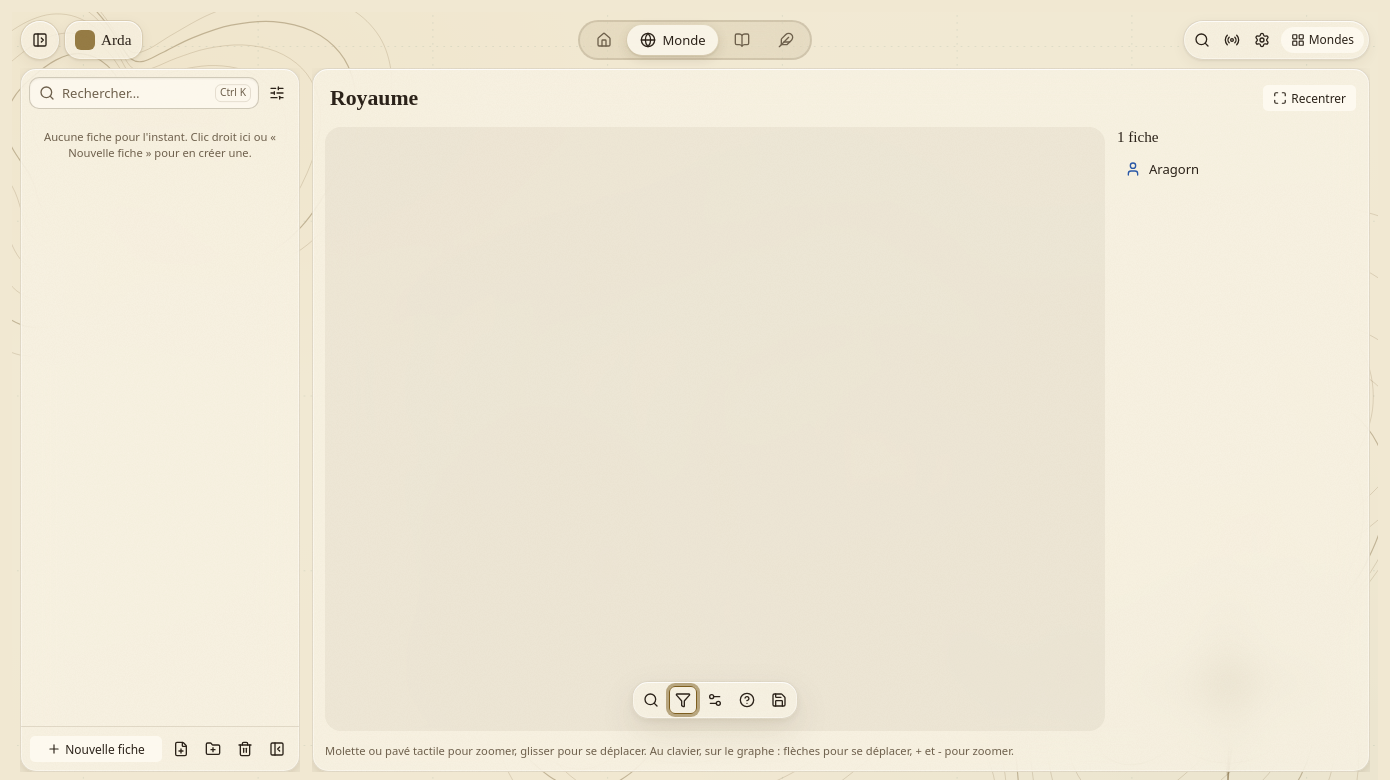
Test: the filters menu checks types; with no card left, it says so and can show everything again
The image size is (1390, 780).
Step 1. Press Enter in the button named "Filtrer par type", box [669,686,697,714]
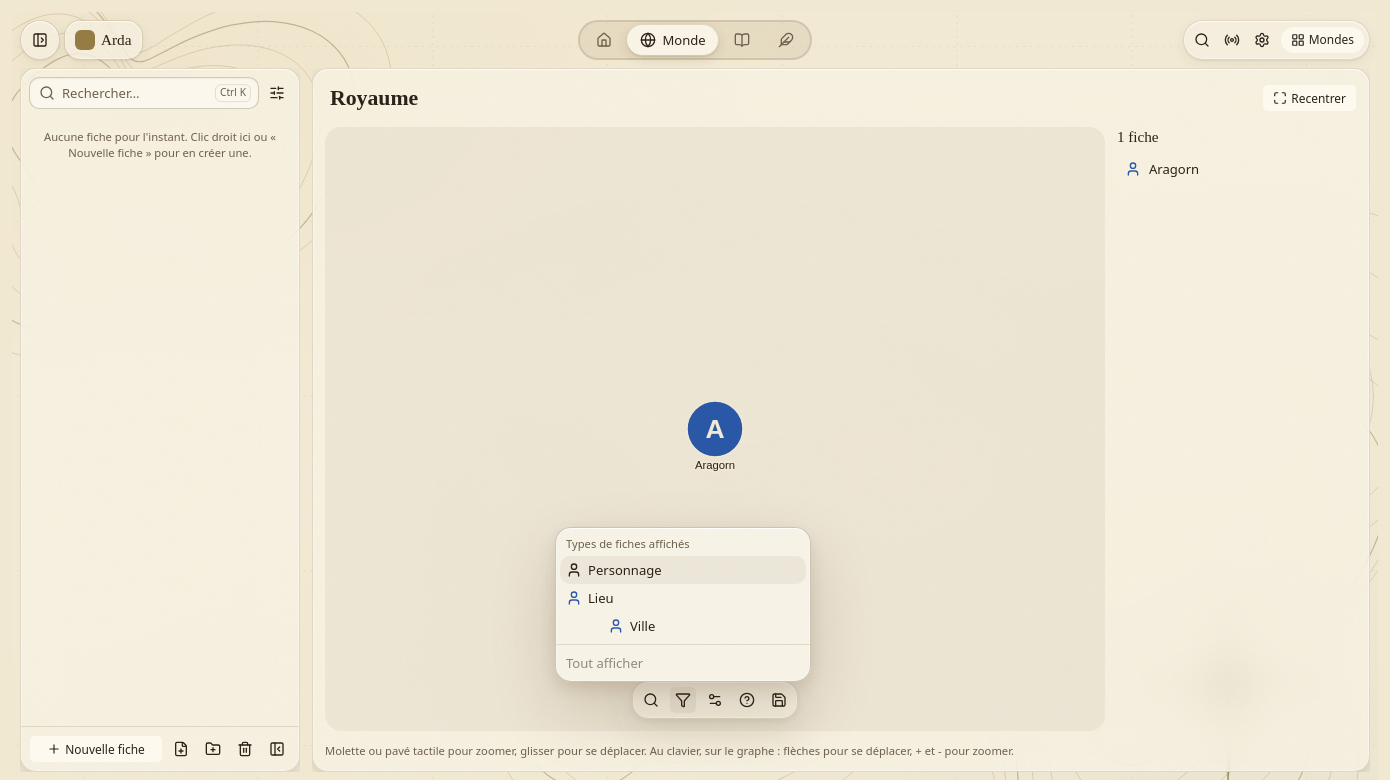
Step 2. Click the menu item "Lieu" → (590, 598), box [566,589,614,607]
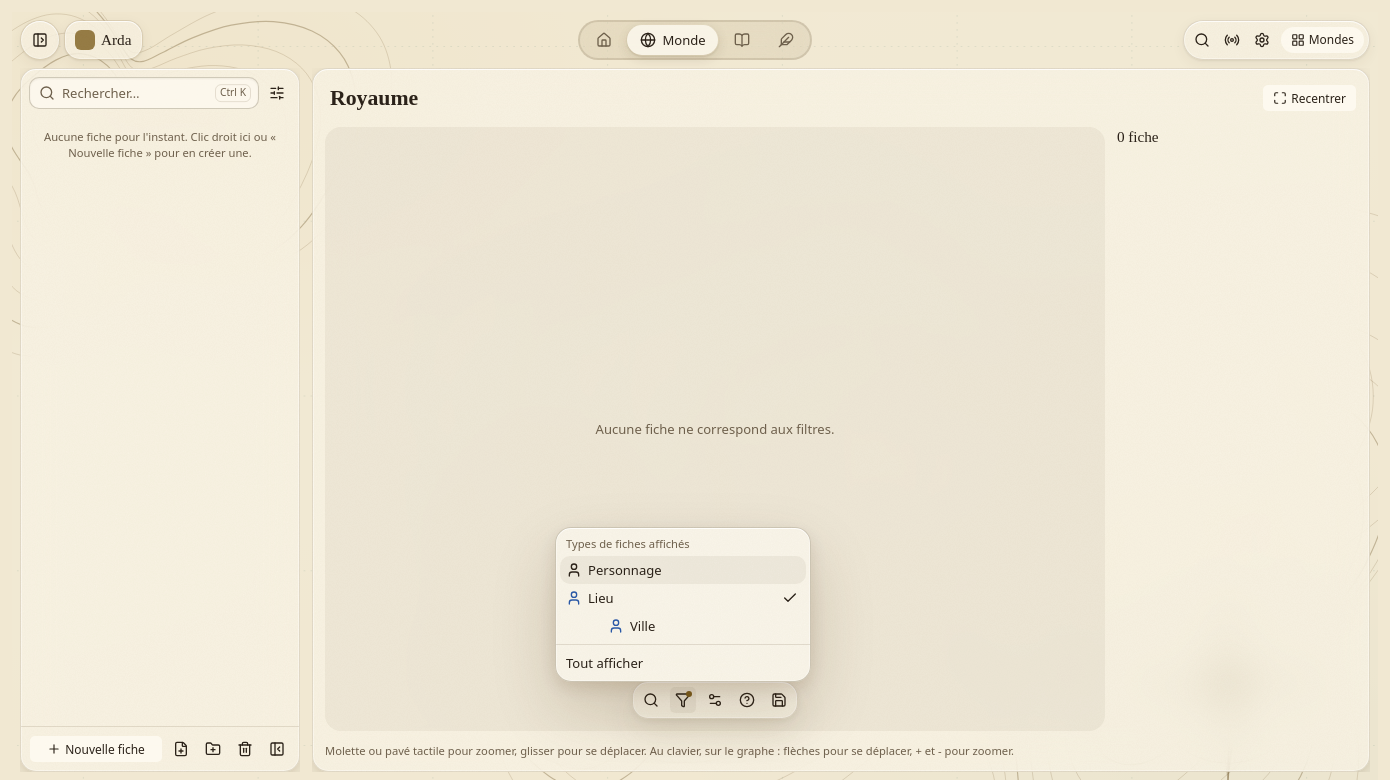
Check: the text "Aucune fiche ne correspond aux filtres." is shown, box [325,127,1105,731]
Check: the button named "Filtrer par type (actif)" is shown, box [669,686,697,714]
Step 3. Click the menu item "Tout afficher" → (605, 663), box [566,654,643,672]
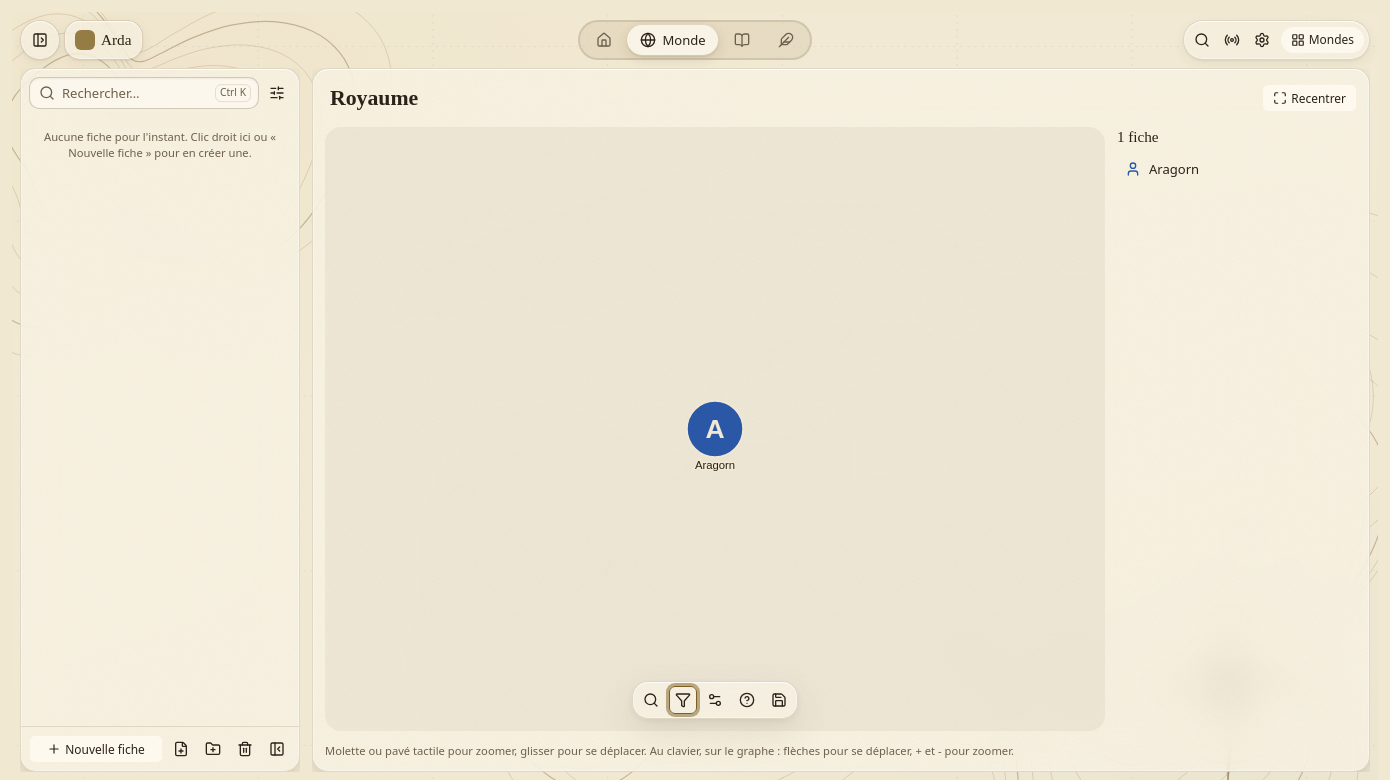
Check: the list named "1 fiche" is shown, box [1125,160,1199,178]
